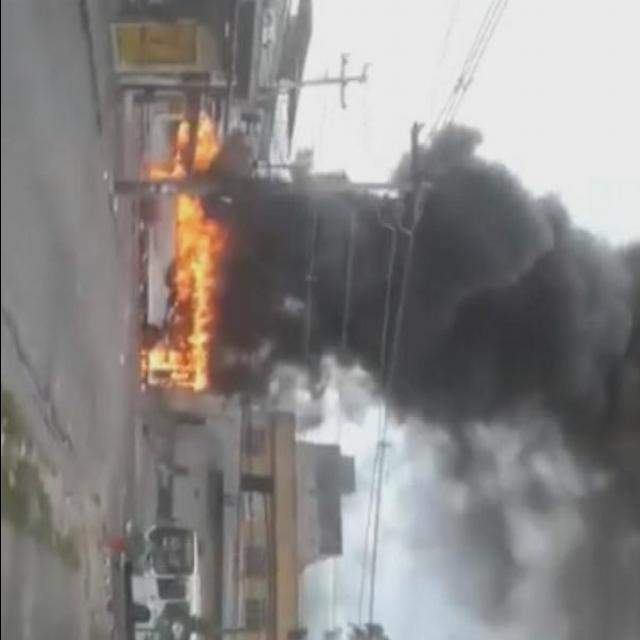Fire: (135, 110, 233, 390)
